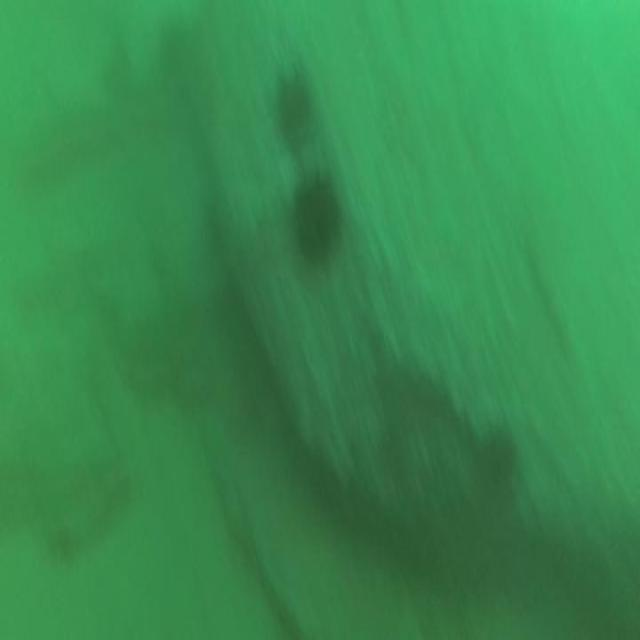echinus: (284, 161, 348, 277), (263, 62, 321, 160)
